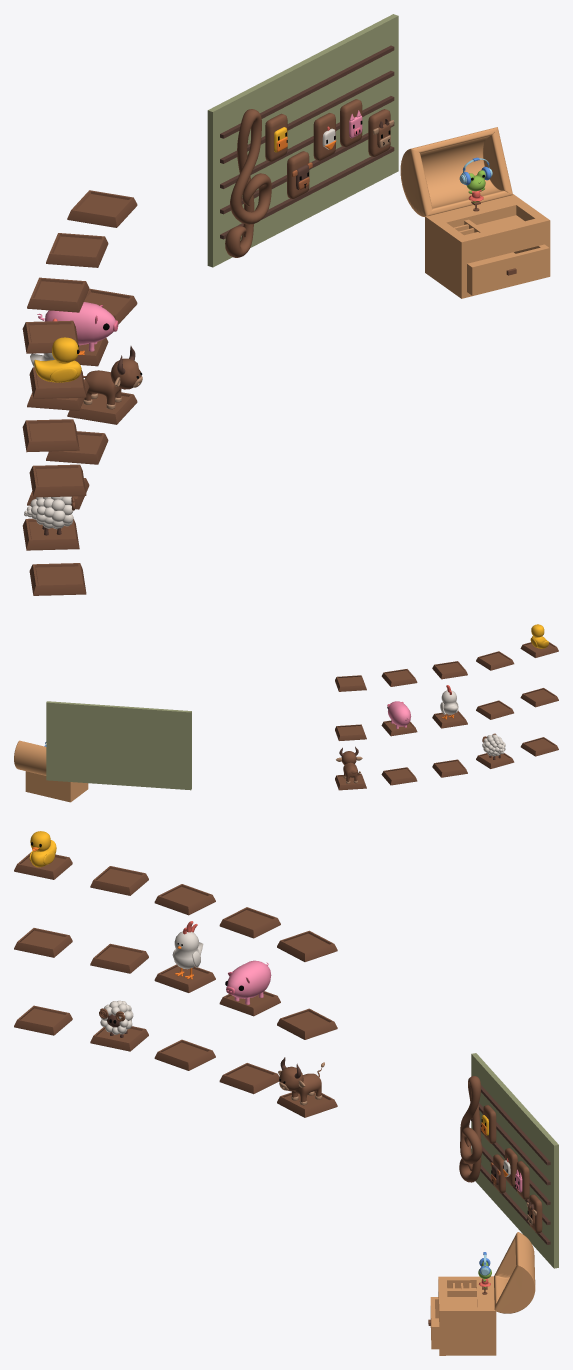
The picture shows the model from 3 angles, top to bottom: view 1: azimuth 30°, elevation 25°; view 2: azimuth 150°, elevation 25°; view 3: azimuth 270°, elevation 25°; orthographic projection. The views are drawn at different scales.
Parts seen in each view (by area): view 1: P1Audioboard, P1Audiosocket.001, P1Box, Lid, P1Audiosocket, Plane.149, P1Audiosocket.002, Plane.148, P1Drawer, P1Pig, P1Duck, P1Cow (+1 smaller); view 2: P1Audioboard, P1Audiosocket.001, P1Audiosocket, P1Audiosocket.002, P1Box, Lid, P1Pig, P1Chicken, P1Duck; view 3: P1Audioboard, P1Audiosocket, P1Audiosocket.001, P1Box, P1Audiosocket.002, Lid, Plane.149, Plane.148, P1Pig, P1Chicken, P1Duck.
Part boxes in pixels (left/top/right/bottom): P1Audioboard: left=207, top=14, right=398, bottom=267; P1Audiosocket.001: left=22, top=320, right=86, bottom=595; P1Box: left=425, top=194, right=550, bottom=298; Lid: left=400, top=127, right=512, bottom=216; P1Audiosocket: left=27, top=233, right=108, bottom=509; Plane.149: left=220, top=45, right=394, bottom=239; P1Audiosocket.002: left=67, top=190, right=137, bottom=424; Plane.148: left=225, top=109, right=271, bottom=257; P1Drawer: left=467, top=244, right=549, bottom=295; P1Pig: left=44, top=302, right=115, bottom=345; P1Duck: left=34, top=337, right=81, bottom=382; P1Cow: left=84, top=370, right=121, bottom=404; P1Audioboard: left=46, top=701, right=191, bottom=790; P1Audiosocket.001: left=476, top=642, right=558, bottom=768; P1Audiosocket: left=381, top=661, right=467, bottom=785; P1Audiosocket.002: left=335, top=675, right=366, bottom=790; P1Box: left=25, top=771, right=88, bottom=802; Lid: left=14, top=740, right=46, bottom=775; P1Pig: left=388, top=701, right=411, bottom=726; P1Chicken: left=441, top=690, right=457, bottom=714; P1Duck: left=531, top=624, right=548, bottom=648; P1Audioboard: left=471, top=1053, right=558, bottom=1268; P1Audiosocket: left=154, top=884, right=280, bottom=1094; P1Audiosocket.001: left=14, top=852, right=148, bottom=1051; P1Box: left=438, top=1276, right=496, bottom=1355; P1Audiosocket.002: left=277, top=930, right=337, bottom=1117; Lid: left=494, top=1232, right=535, bottom=1313; Plane.149: left=471, top=1085, right=550, bottom=1244; Plane.148: left=459, top=1076, right=482, bottom=1182; P1Pig: left=227, top=960, right=271, bottom=998; P1Chicken: left=173, top=931, right=203, bottom=969; P1Duck: left=30, top=831, right=56, bottom=867.
Bounding box in the file's own units: 281 × 105 × 217.
